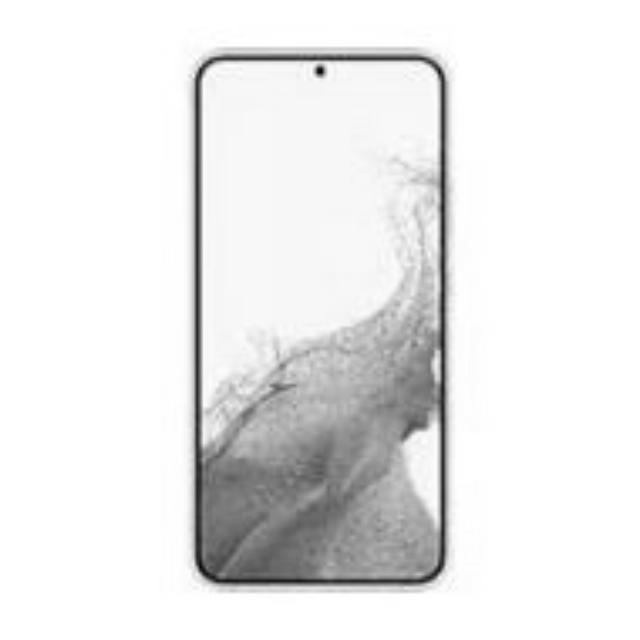fake: (183, 54, 458, 584)
